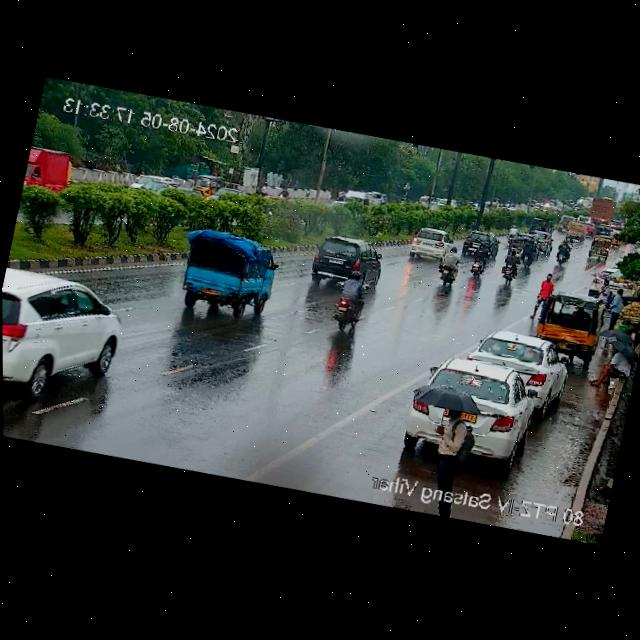car: (2, 266, 132, 415), (397, 347, 546, 477), (169, 227, 281, 322), (465, 323, 573, 403), (530, 287, 606, 364), (305, 230, 388, 294), (405, 224, 462, 266), (457, 226, 500, 260), (582, 233, 612, 263), (561, 218, 587, 242), (525, 215, 554, 236), (526, 229, 552, 252)
motorcycle: (324, 276, 375, 338), (426, 248, 466, 288), (551, 237, 575, 268)
person: (420, 398, 481, 501), (589, 332, 635, 391), (525, 269, 559, 325), (599, 286, 628, 330), (191, 170, 227, 199), (466, 239, 490, 280), (498, 251, 521, 287), (518, 237, 539, 268)
truck: (22, 141, 73, 198), (586, 195, 615, 224)
